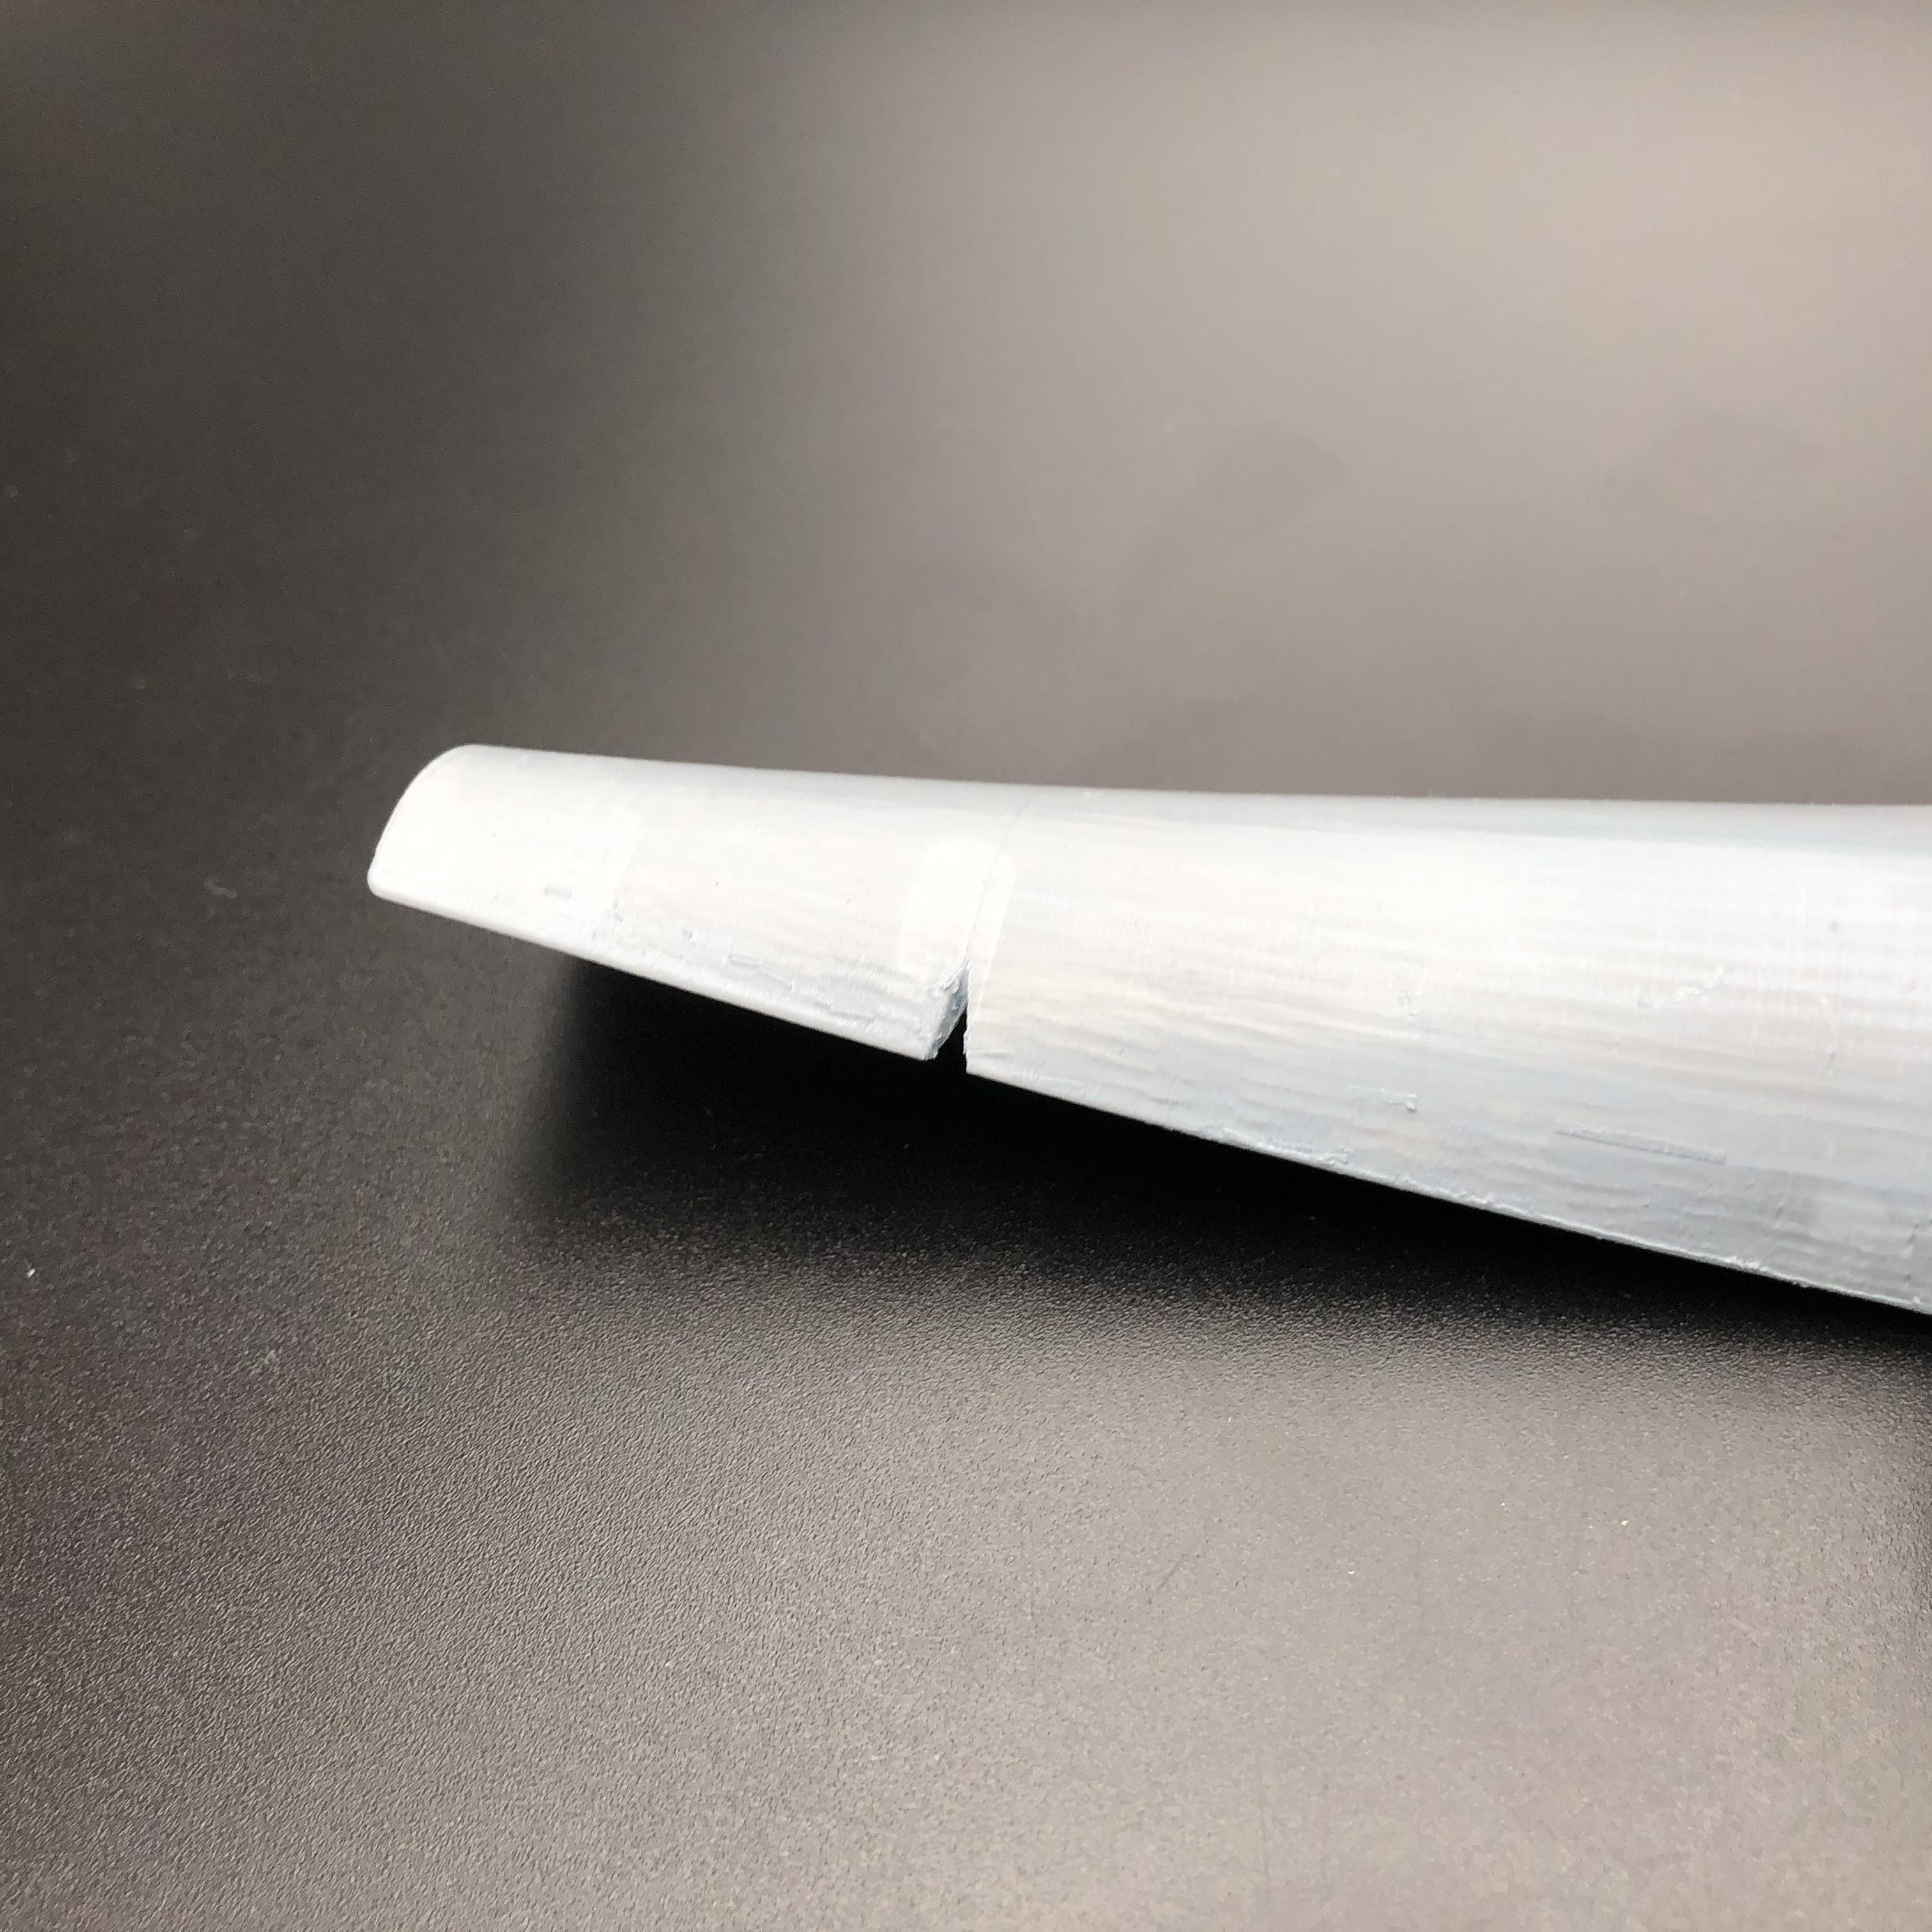groove: (922, 975, 994, 1072)
